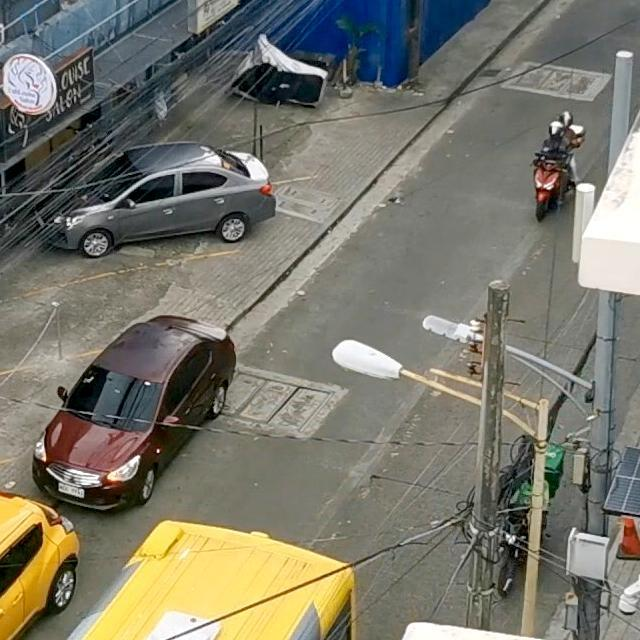Car: (1, 292, 258, 532), (21, 126, 304, 269), (0, 469, 92, 640)
Motorcycle: (522, 96, 602, 223)
